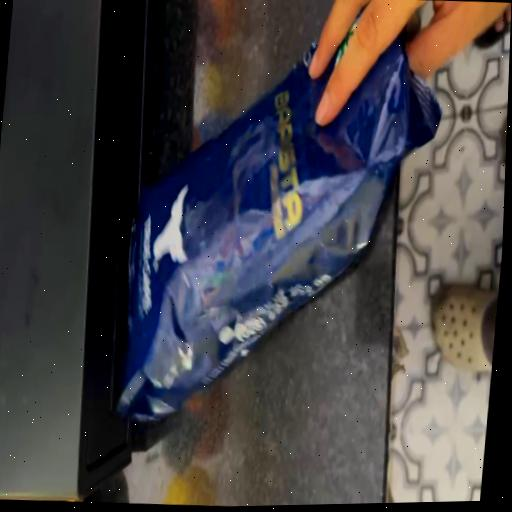cafe_hat: (118, 35, 440, 418)
